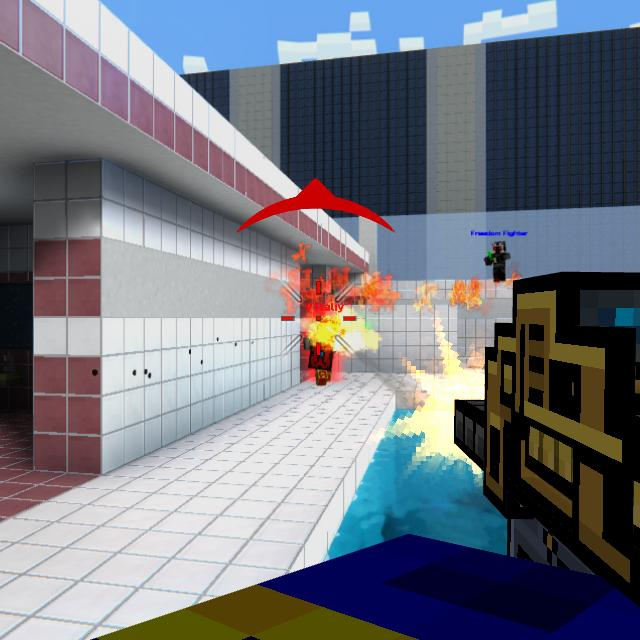Enemy: (305, 315, 340, 384)
